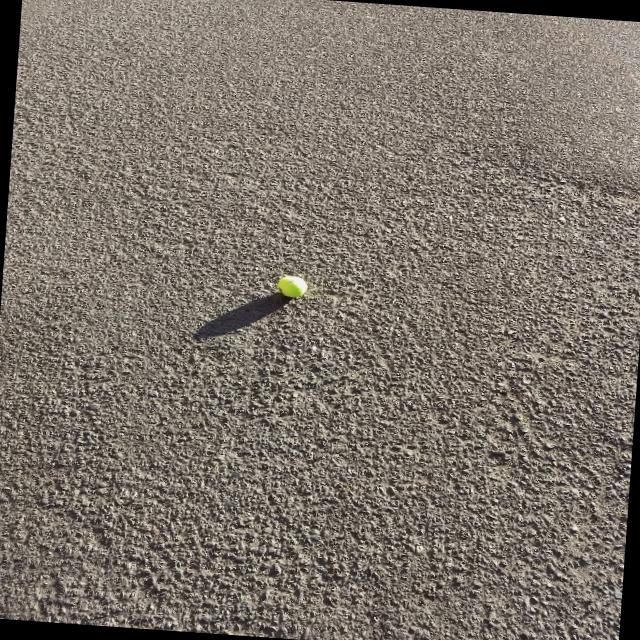Tennis Ball: (278, 274, 309, 298)
